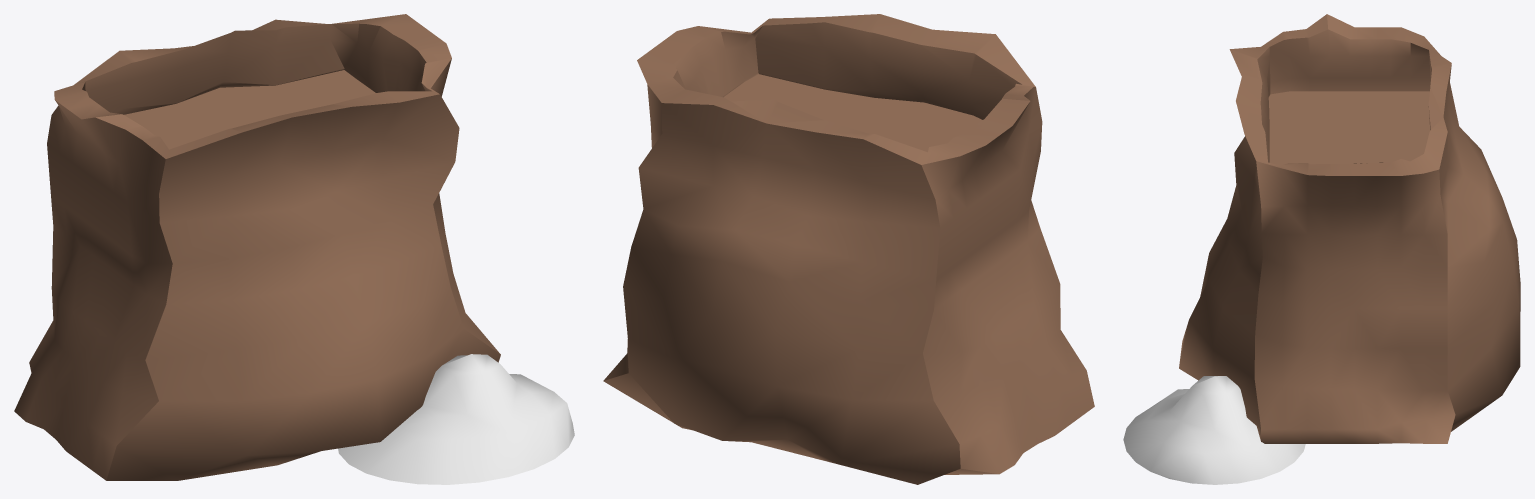
File: flour_sack.fbx
3 views of the same model, side by side, from view 1: azimuth 30°, elevation 25°; view 2: azimuth 150°, elevation 25°; view 3: azimuth 270°, elevation 25° (orthographic). The views are drawn at different scales.
Parts seen in each view (by area): view 1: rice_sack:bag, flour_pile; view 2: rice_sack:bag; view 3: rice_sack:bag, flour_pile.
Boxes of the visible parts, x1,y1,x2,y2 form: rice_sack:bag: (14,14,500,480); flour_pile: (338,354,574,484); rice_sack:bag: (603,14,1094,484); rice_sack:bag: (1179,14,1520,443); flour_pile: (1123,376,1305,484).
Size of the model in its own units: 42.74 by 33.34 by 39.42.
